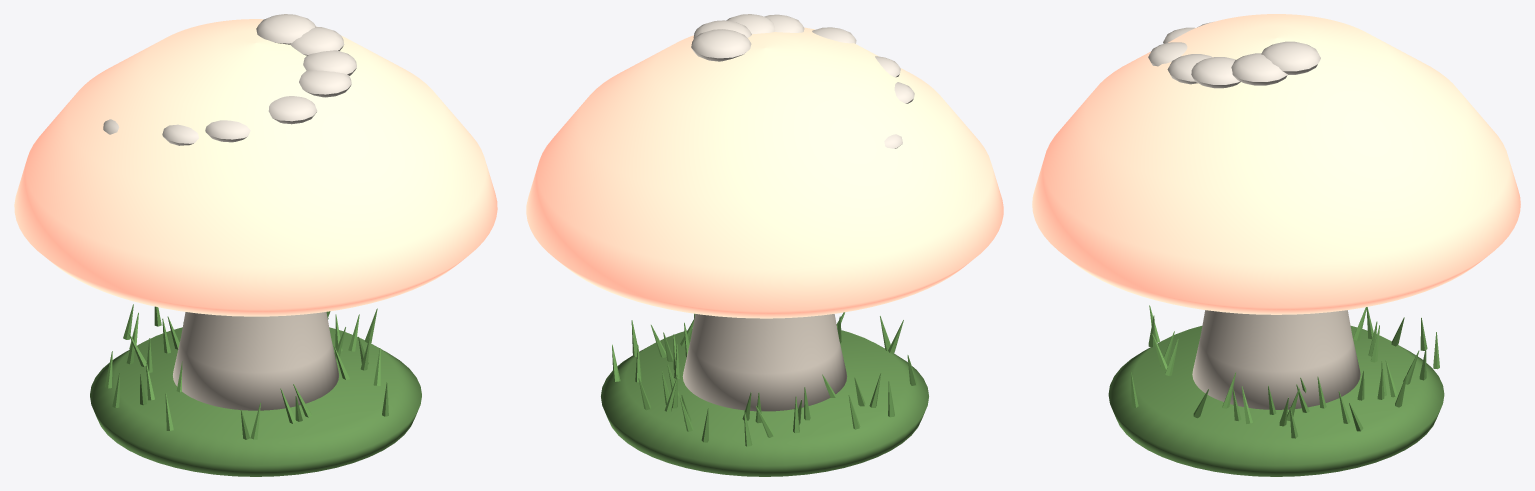
The model's file is decor_mushroom_lamp.glb.
3 renders of one model, left to right at view 1: azimuth 30°, elevation 25°; view 2: azimuth 150°, elevation 25°; view 3: azimuth 270°, elevation 25°, orthographic. The views are drawn at different scales.
Visible parts, largest first — view 1: Mu4_Cap.001, Mu4_Base.001, Mu4_Stem.001, Mu4_Spots_J_MushSpot.001, Mu4_Grass_J_Grass.001; view 2: Mu4_Cap.001, Mu4_Base.001, Mu4_Stem.001, Mu4_Grass_J_Grass.001, Mu4_Spots_J_MushSpot.001; view 3: Mu4_Cap.001, Mu4_Base.001, Mu4_Stem.001, Mu4_Spots_J_MushSpot.001, Mu4_Grass_J_Grass.001.
Boxes of the visible parts, box(x1,y1,x2,y2) form: Mu4_Cap.001: box(14, 19, 497, 316); Mu4_Base.001: box(90, 327, 421, 476); Mu4_Stem.001: box(173, 312, 338, 410); Mu4_Spots_J_MushSpot.001: box(103, 14, 356, 145); Mu4_Grass_J_Grass.001: box(105, 304, 388, 439); Mu4_Cap.001: box(526, 27, 1003, 318); Mu4_Base.001: box(601, 329, 928, 476); Mu4_Stem.001: box(682, 314, 847, 411); Mu4_Grass_J_Grass.001: box(612, 312, 916, 446); Mu4_Spots_J_MushSpot.001: box(691, 14, 914, 148); Mu4_Cap.001: box(1032, 14, 1520, 314); Mu4_Base.001: box(1108, 326, 1444, 476); Mu4_Stem.001: box(1192, 310, 1360, 409); Mu4_Spots_J_MushSpot.001: box(1148, 22, 1320, 88); Mu4_Grass_J_Grass.001: box(1130, 305, 1439, 438).
Size of the model in its own units: 0.256 by 0.2192 by 0.256.
